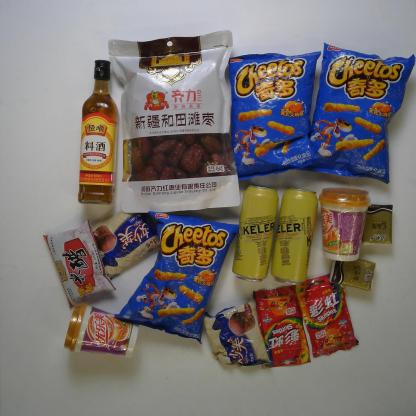Alcohol: (269, 186, 320, 288), (230, 184, 280, 283)
Candy: (292, 272, 361, 359), (252, 283, 314, 370)
Dessert: (89, 210, 161, 282), (202, 297, 273, 370)
Dried Food: (105, 28, 242, 215)
Instant Drink: (62, 300, 140, 361), (316, 184, 372, 263)
Puffed Food: (112, 207, 241, 346), (295, 40, 415, 185), (227, 50, 322, 182)
Seasoner: (42, 217, 118, 310), (74, 57, 121, 207)
Tissue: (327, 256, 377, 292), (360, 202, 395, 246)
